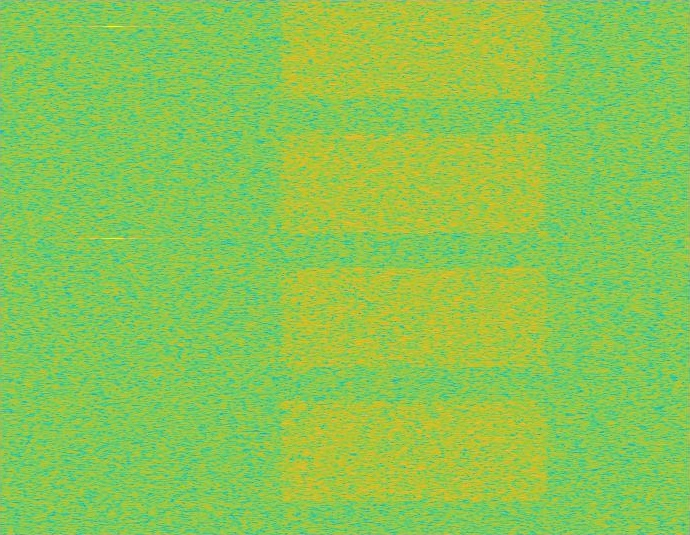5G: (276, 0, 552, 534)
Radar: (106, 0, 120, 534)
